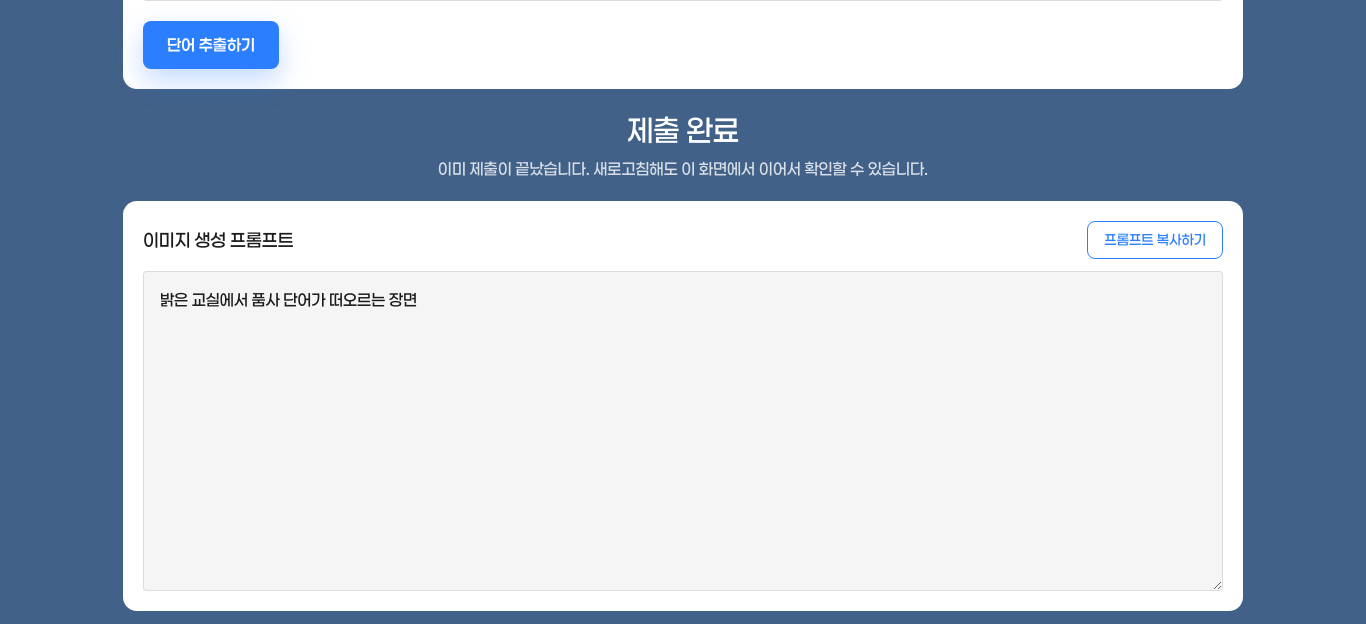
it: StudentPage › lets students copy a restored image prompt
The image size is (1366, 624).
(page scrolled)
Click the button "프롬프트 복사하기".
click(1155, 240)  # box [1087,221,1223,259]
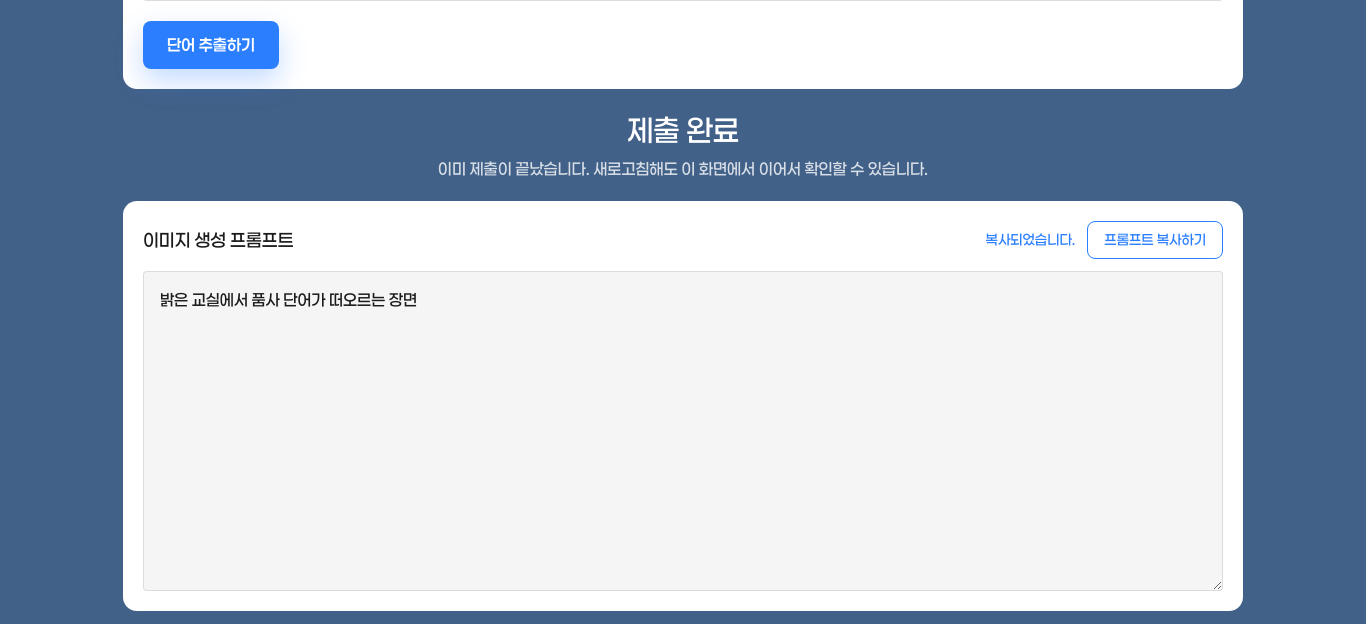
Check: the text "복사되었습니다." is shown, box [986,230,1075,250]
